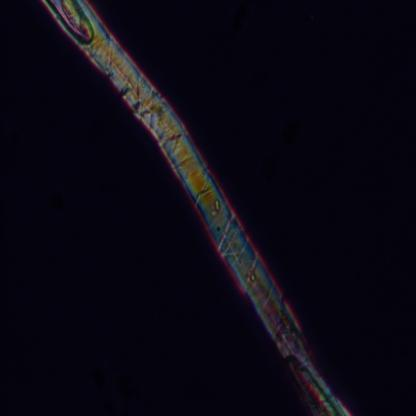Anthropogenic: (39, 0, 351, 416)
